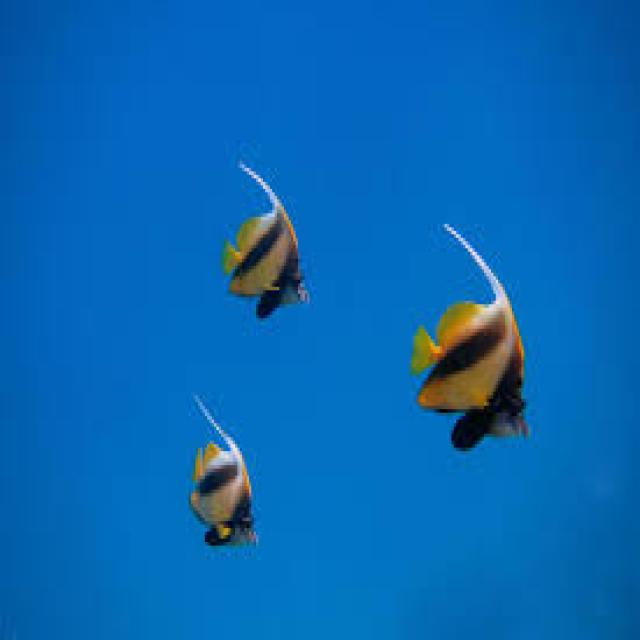Bannerfish: (412, 240, 528, 442), (222, 160, 304, 314), (189, 400, 252, 552)
